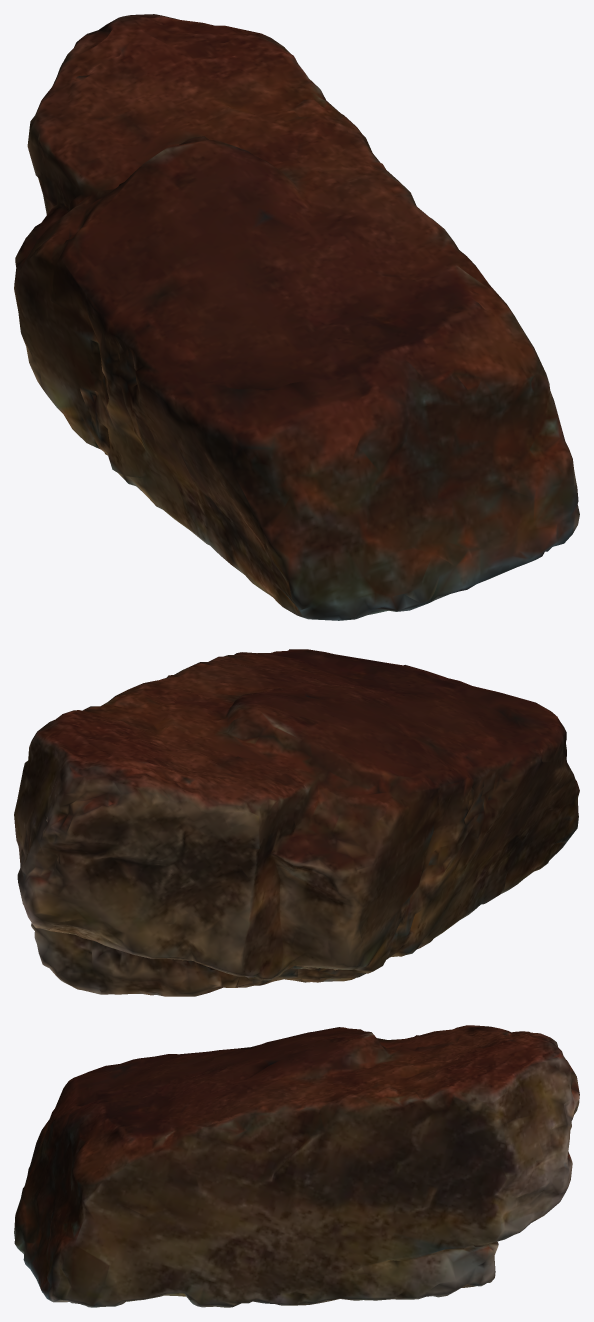
File: rock_07.glb
3 views of the same model, one above another, from view 1: azimuth 30°, elevation 25°; view 2: azimuth 150°, elevation 25°; view 3: azimuth 270°, elevation 25° (orthographic). The views are drawn at different scales.
Visible parts, largest first — view 1: rock_07; view 2: rock_07; view 3: rock_07.
Part boxes in pixels (x1,y1,x2,y2): rock_07: (14, 14, 579, 620); rock_07: (14, 649, 579, 996); rock_07: (14, 1025, 579, 1307).
Bounding box in the file's own units: 0.1686 × 0.1437 × 0.3202.
1 material, 1 textured.
